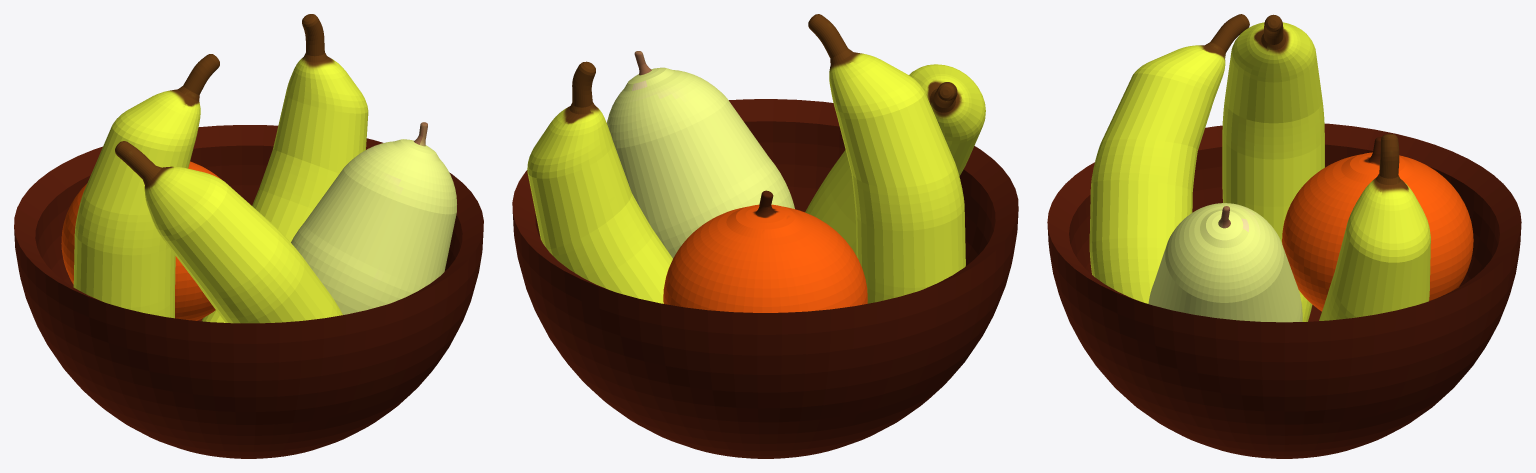
Rendered from fruit.obj.
3 renders of one model, left to right at view 1: azimuth 30°, elevation 25°; view 2: azimuth 150°, elevation 25°; view 3: azimuth 270°, elevation 25°, orthographic. The views are drawn at different scales.
Visible parts, largest first — view 1: Sphere, Sphere.002_Sphere.003, Cylinder.001, Cylinder.002, Cylinder.003, Sphere.001_Sphere.002; view 2: Sphere, Cylinder.002, Sphere.002_Sphere.003, Cylinder.003, Sphere.001_Sphere.002, Cylinder.001; view 3: Sphere, Cylinder.001, Cylinder.002, Sphere.002_Sphere.003, Sphere.001_Sphere.002, Cylinder.003.
Boxes of the visible parts, x1,y1,x2,y2 form: Sphere: [14, 125, 483, 458]; Sphere.002_Sphere.003: [291, 122, 456, 314]; Cylinder.001: [115, 141, 342, 323]; Cylinder.002: [73, 54, 219, 318]; Cylinder.003: [202, 14, 368, 322]; Sphere.001_Sphere.002: [61, 161, 221, 320]; Sphere: [512, 99, 1018, 458]; Cylinder.002: [808, 14, 965, 303]; Sphere.002_Sphere.003: [607, 51, 794, 258]; Cylinder.003: [527, 61, 672, 303]; Sphere.001_Sphere.002: [663, 190, 867, 312]; Cylinder.001: [805, 64, 985, 255]; Sphere: [1047, 123, 1521, 458]; Cylinder.001: [1089, 14, 1249, 303]; Cylinder.002: [1222, 14, 1324, 321]; Sphere.002_Sphere.003: [1148, 203, 1302, 322]; Sphere.001_Sphere.002: [1282, 137, 1473, 311]; Cylinder.003: [1319, 134, 1430, 320].
Bounding box in the file's own units: 4.14 × 3.86 × 4.14.
